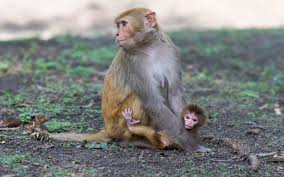monkey: (72, 12, 171, 153), (121, 101, 233, 150)
